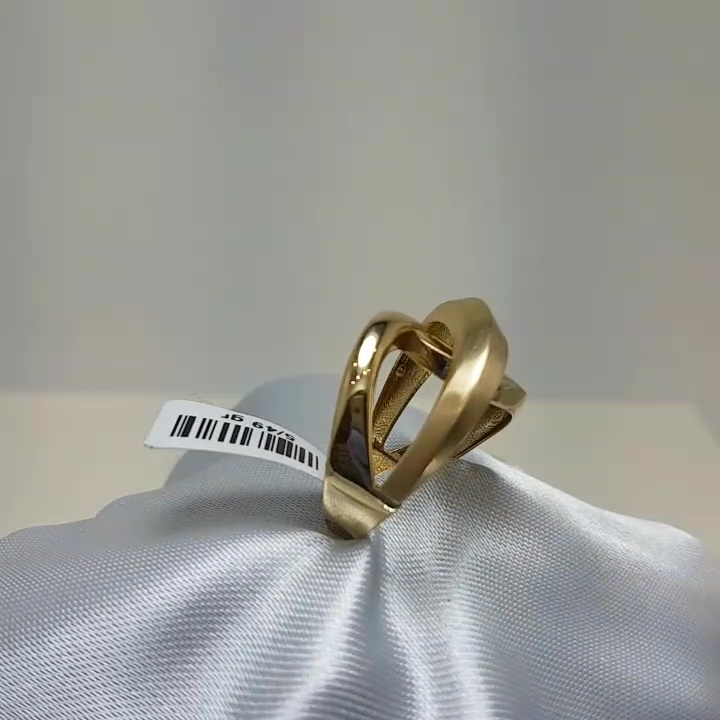Ring 3: (299, 274, 540, 553)
